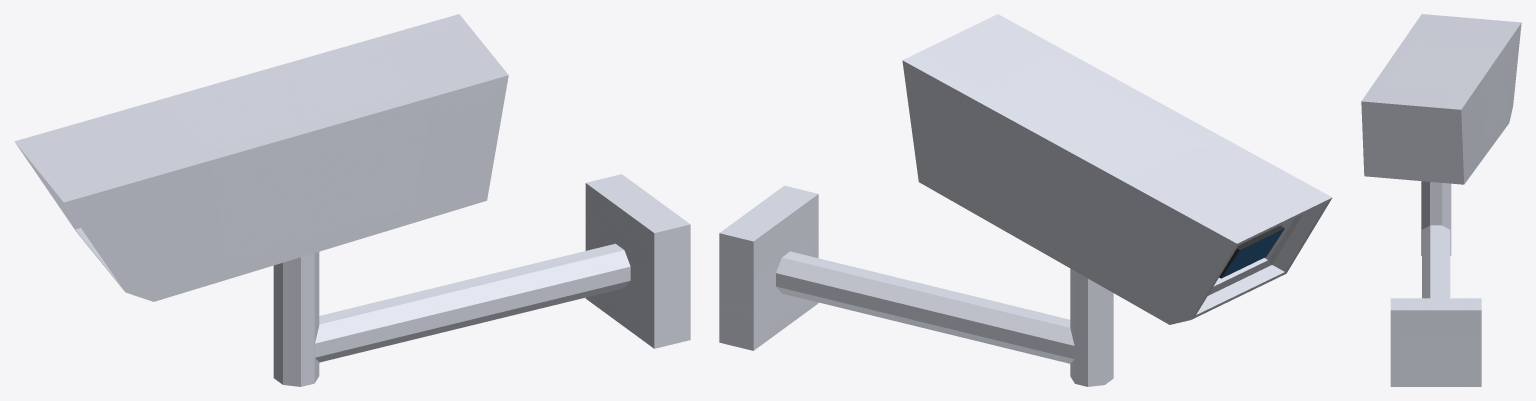
3 views of the same model, side by side, from view 1: azimuth 30°, elevation 25°; view 2: azimuth 150°, elevation 25°; view 3: azimuth 270°, elevation 25° (orthographic). The views are drawn at different scales.
Visible parts, largest first — view 1: TV彩色固定摄像机.001; view 2: TV彩色固定摄像机.001; view 3: TV彩色固定摄像机.001.
Boxes of the visible parts, box(x1,y1,x2,y2) form: TV彩色固定摄像机.001: box(14, 14, 690, 386); TV彩色固定摄像机.001: box(719, 14, 1332, 386); TV彩色固定摄像机.001: box(1361, 14, 1521, 386).
Bounding box in the file's own units: 1.64 × 0.8576 × 0.5676.
3 materials, 3 textured.
